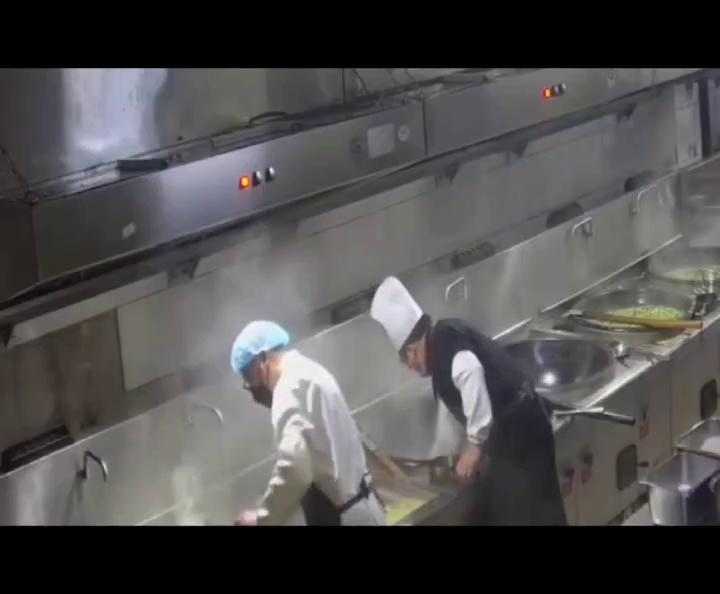gloves: (232, 316, 287, 374)
